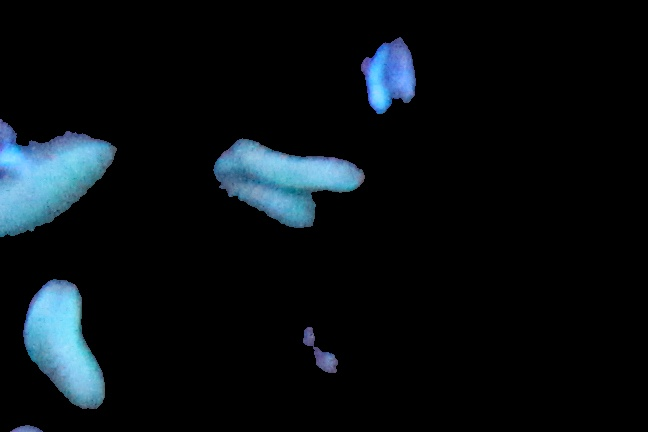larvae: (1, 135, 114, 233), (25, 282, 106, 405), (210, 167, 314, 228), (233, 140, 364, 188)
